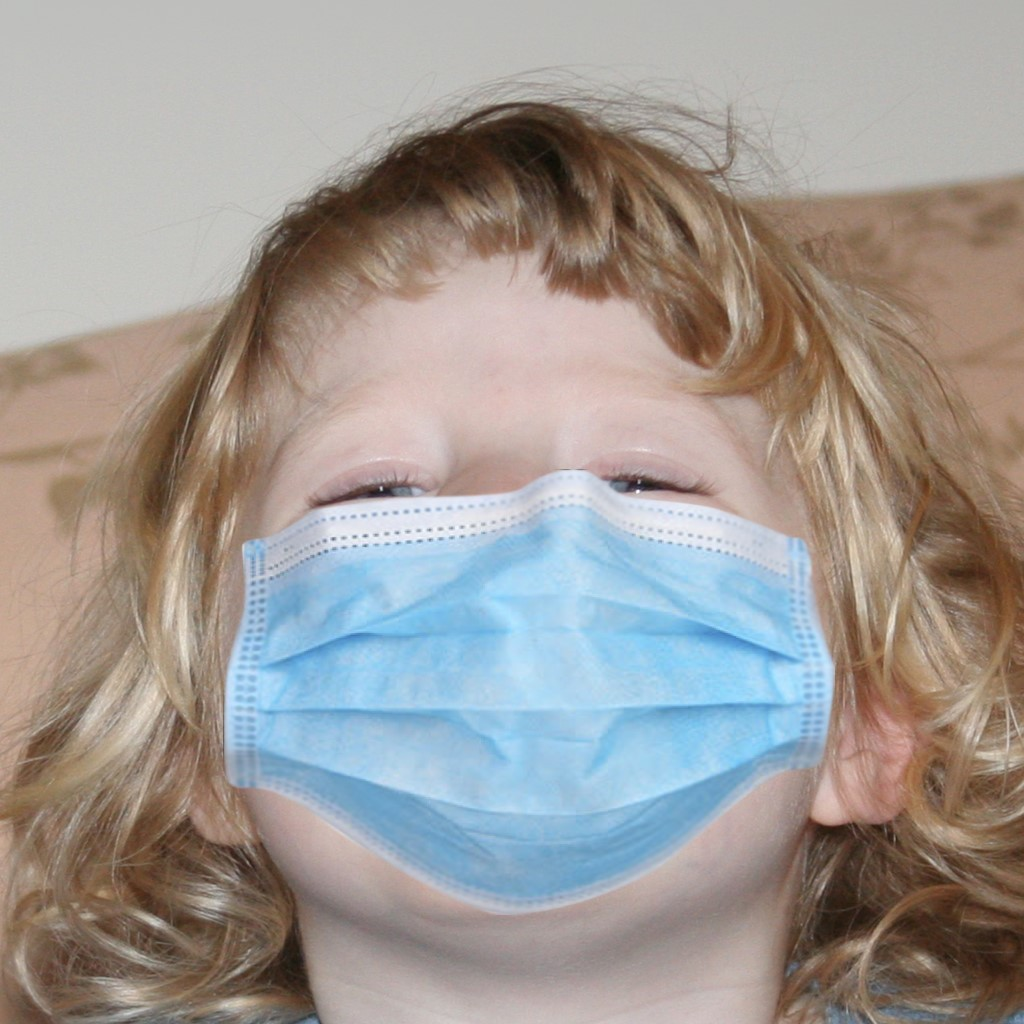con_mascara: (169, 171, 881, 958)
